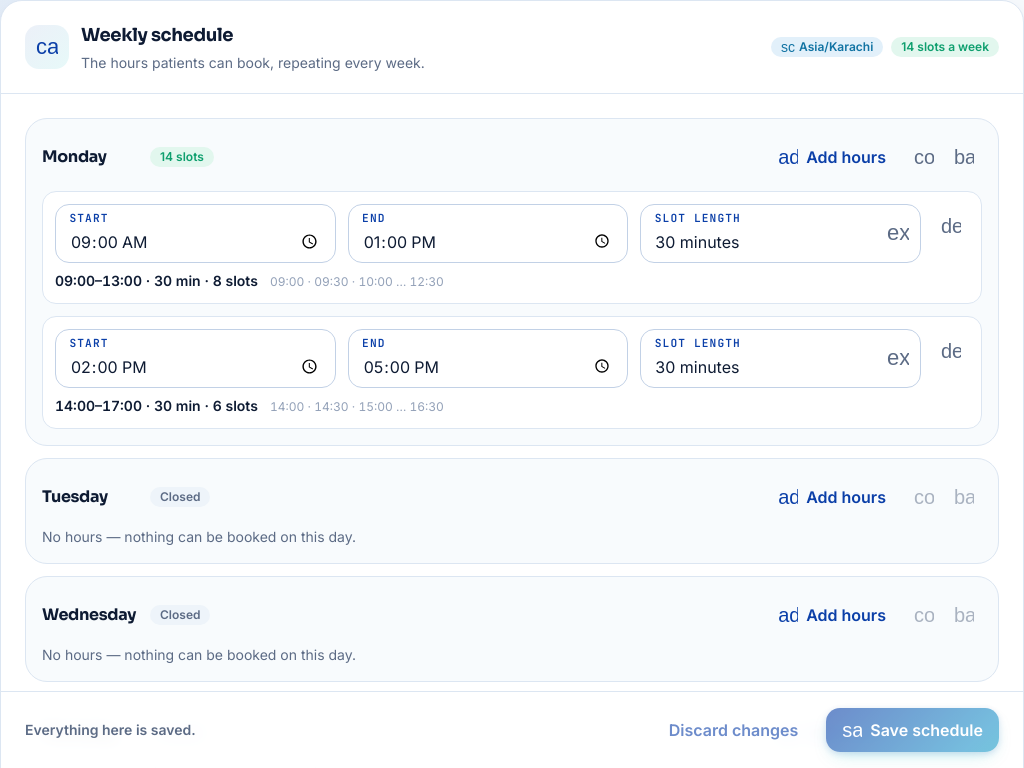
Test: two windows that cover the same minute › names both of them, and the day, before the save is attempted
The image size is (1024, 768).
Replace the text in the 1st time field showing "13:00" with "15:00" at (488, 233), box [348,204,628,263]
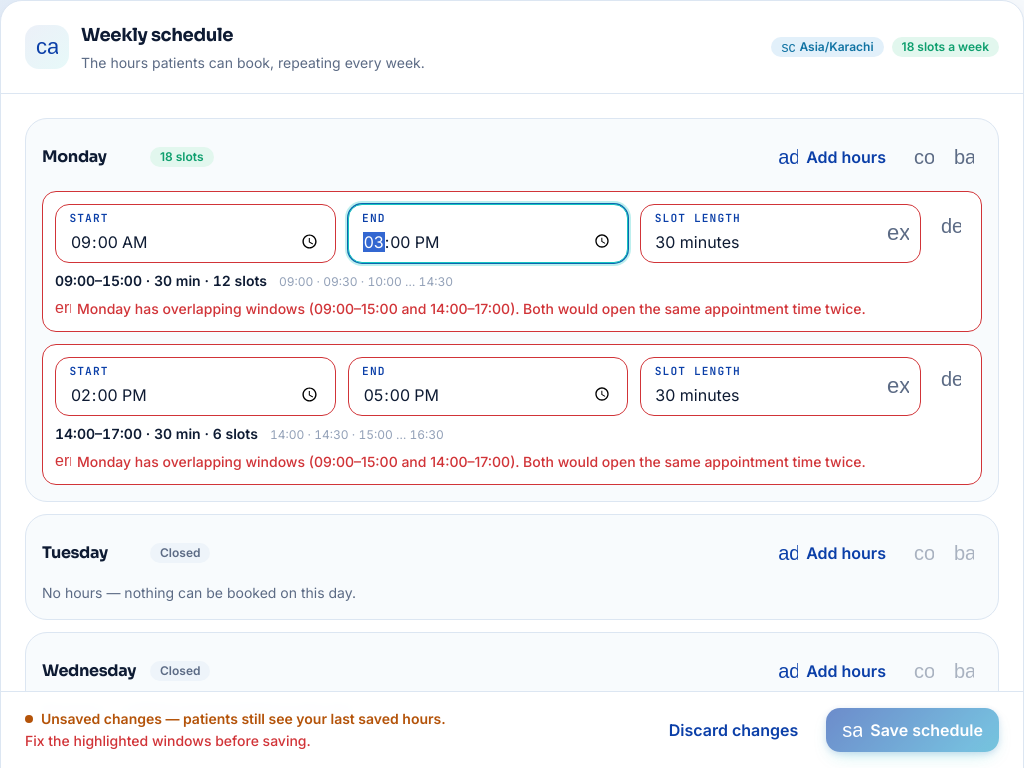
Expected: the button "Save schedule" is disabled, [826,708,999,752]
Expected: the text "Monday has overlapping windows" below "09:00–15:00 · 30 min · 12 slots" shows "14:00–17:00", [77,300,866,317]
